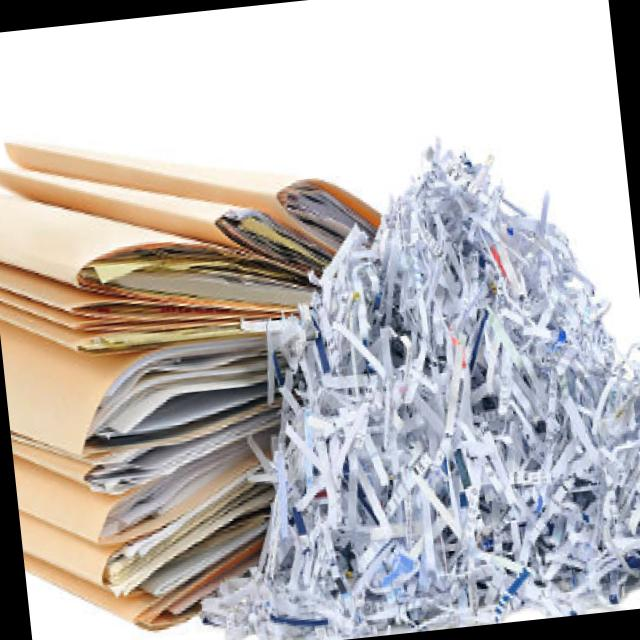KertasBekas: (153, 117, 640, 640), (0, 99, 422, 640)
